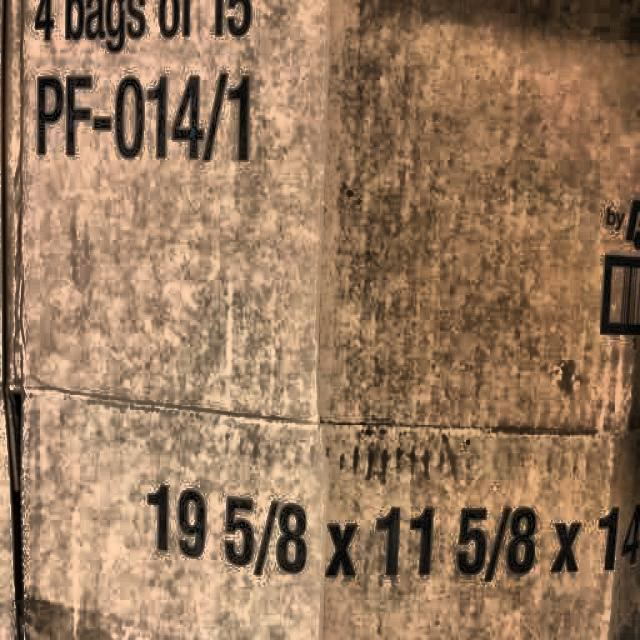cardboard: (18, 24, 550, 594)
